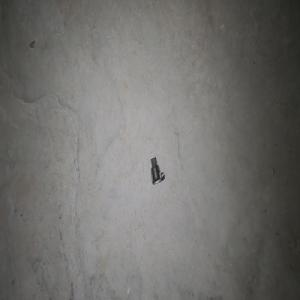MetalPart: (150, 156, 164, 184)
